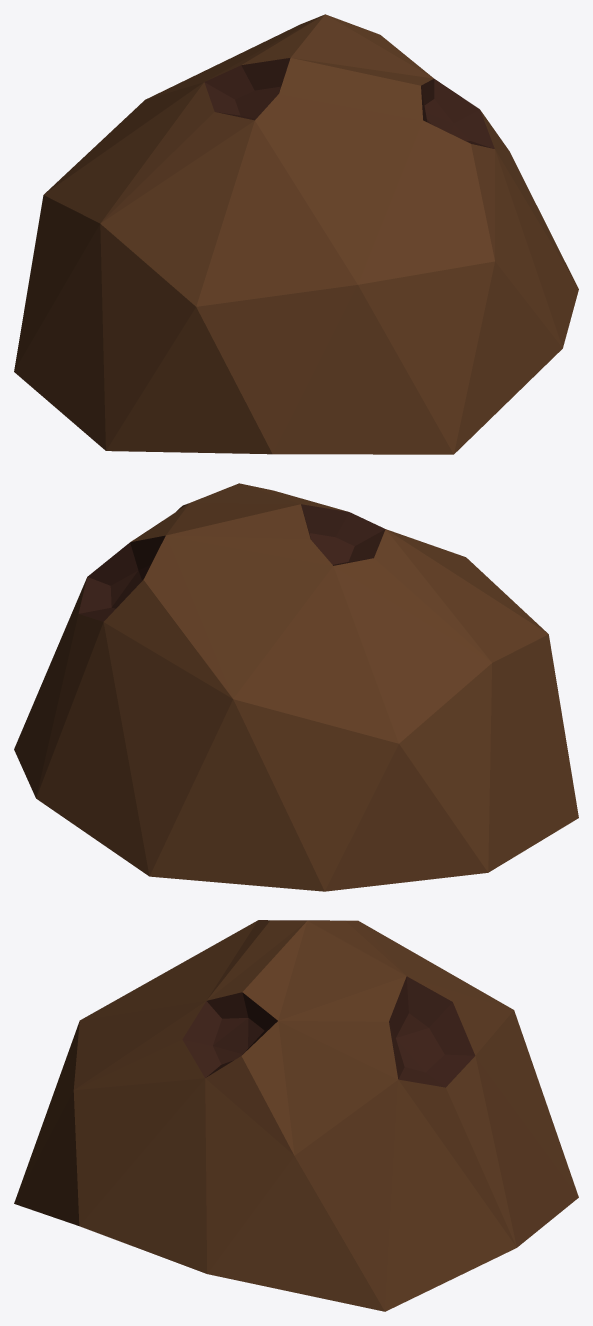
The model's file is CoconutTop.fbx.
3 renders of one model, top to bottom at view 1: azimuth 30°, elevation 25°; view 2: azimuth 150°, elevation 25°; view 3: azimuth 270°, elevation 25°, orthographic. The views are drawn at different scales.
Visible parts, largest first — view 1: Icosphere.003; view 2: Icosphere.003; view 3: Icosphere.003.
Part boxes in pixels (left/top/right/bottom): Icosphere.003: left=14, top=14, right=578, bottom=454; Icosphere.003: left=14, top=483, right=578, bottom=891; Icosphere.003: left=14, top=920, right=578, bottom=1311.
Size of the model in its own units: 34.8 by 36.29 by 20.47.
